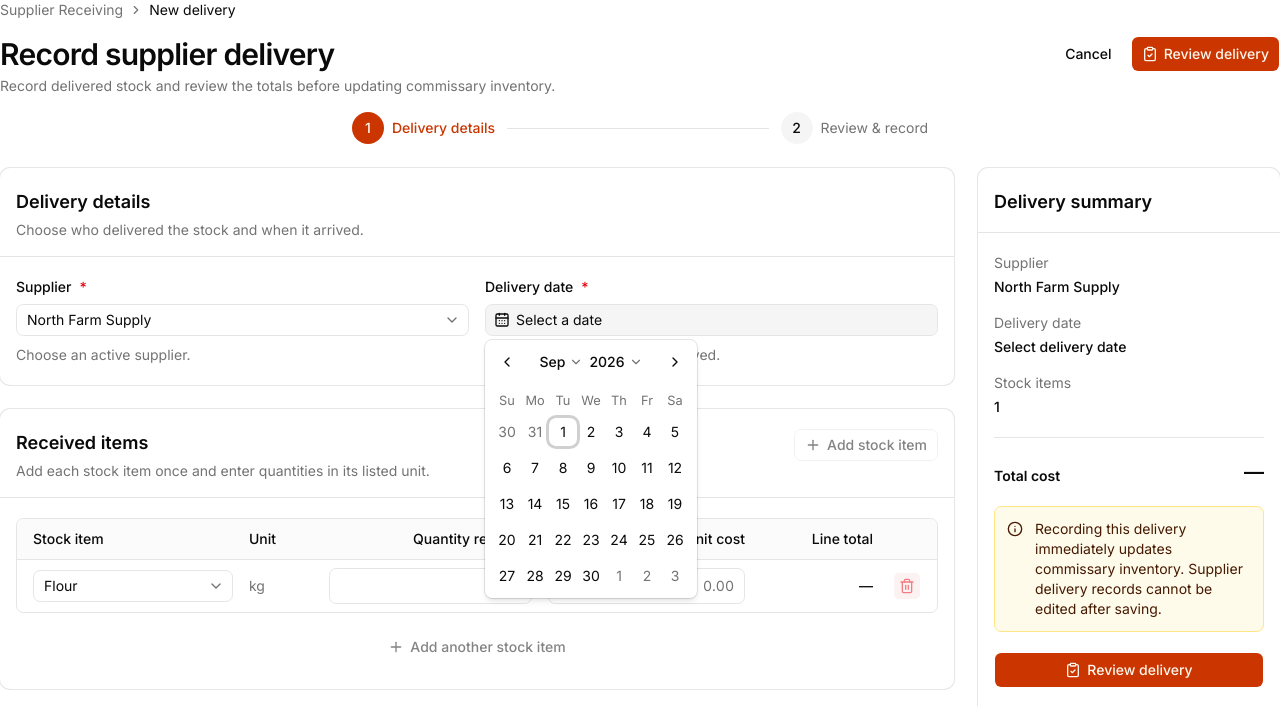
Test: supplier receipt create page › provides a dedicated receiving workspace with a live exact summary
Earlier steps of the test are not shown.
Step 1. Click the button named "September 24" → click(619, 540), box [605, 526, 633, 554]
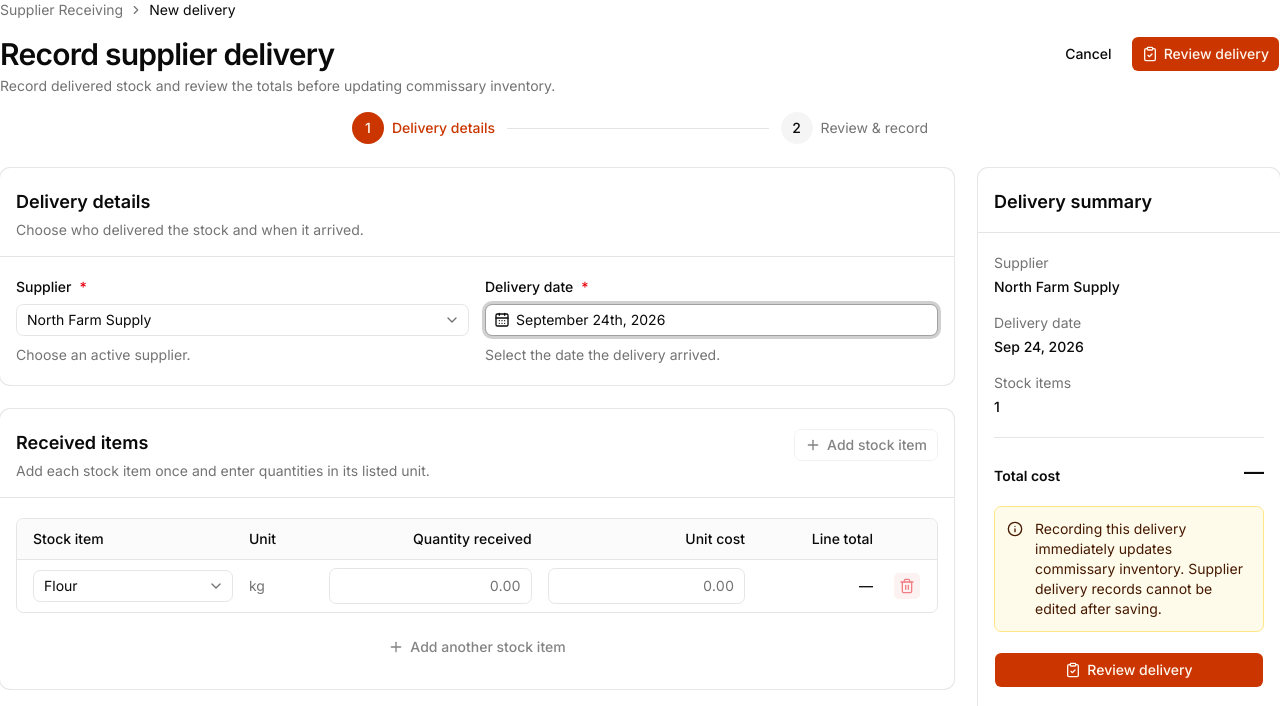
Step 2. Type "1.25" into the field named "Quantity received for line 1" → (430, 586), box [329, 568, 532, 604]
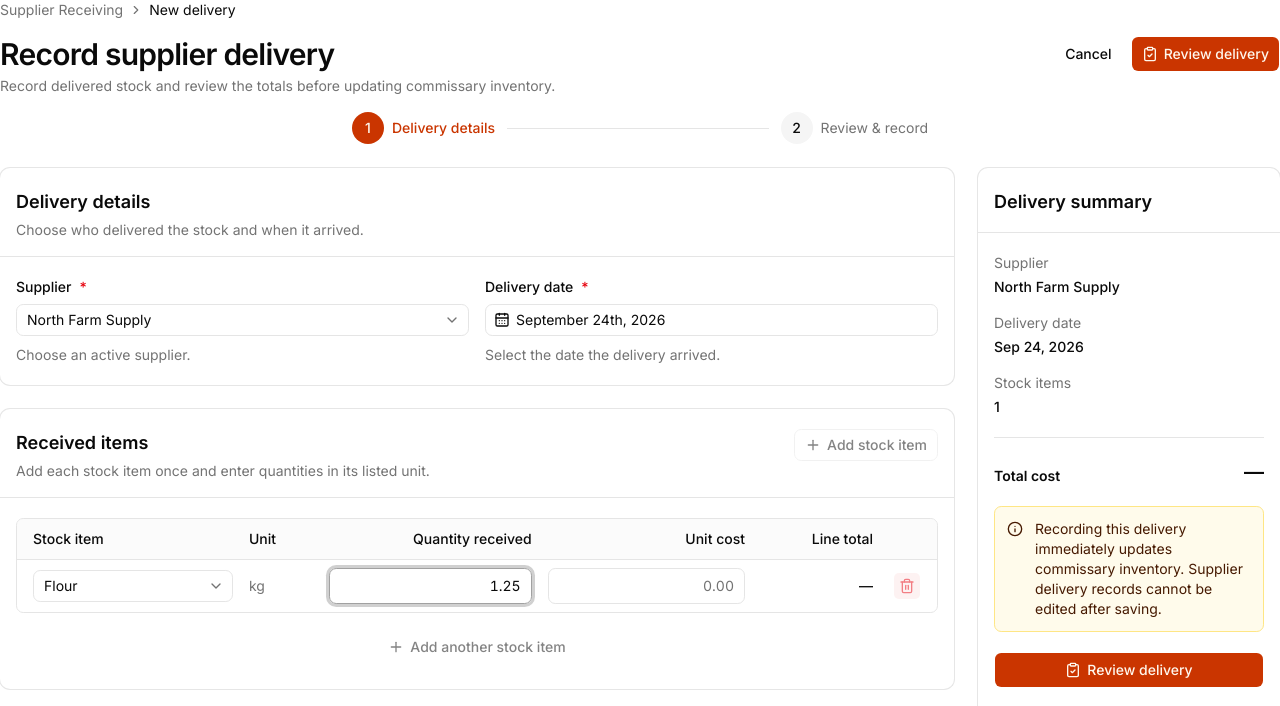
Step 3. Type "2.50" into the field named "Unit cost for line 1" → (646, 586), box [548, 568, 745, 604]
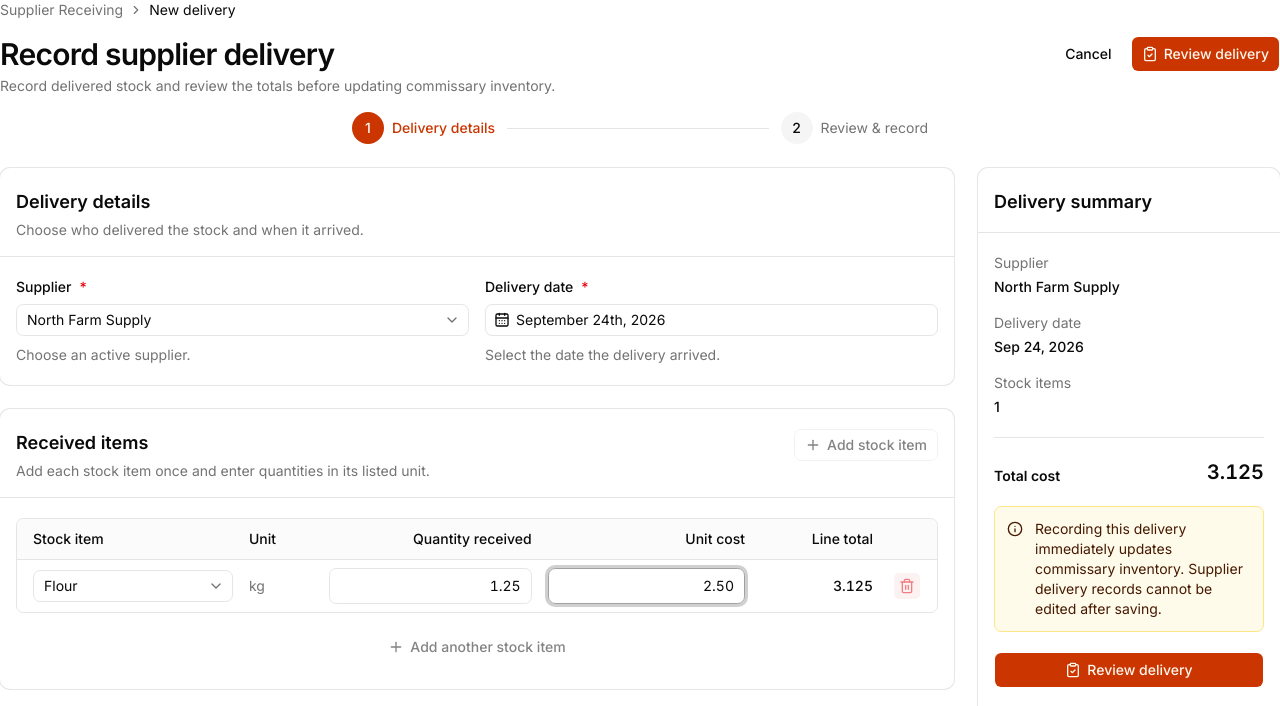
Expected: the text "3.125" is shown, [753, 559, 881, 612]
